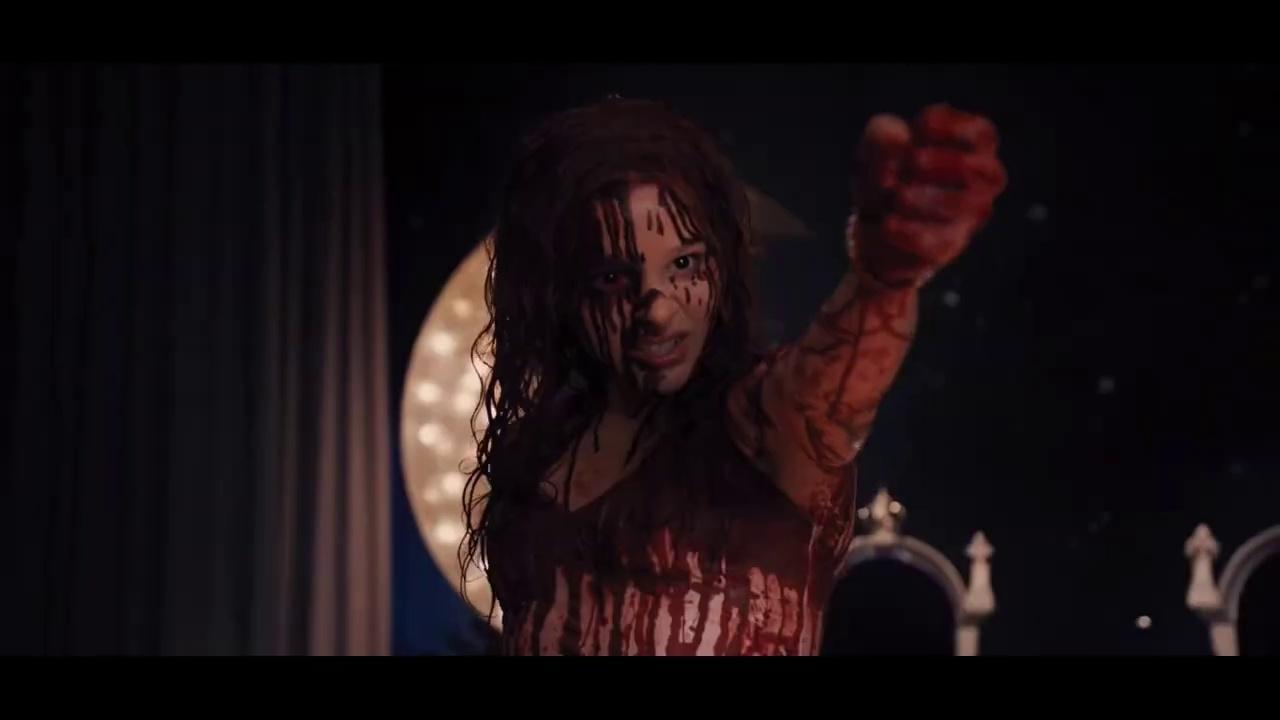Fire: (479, 99, 1007, 657)
